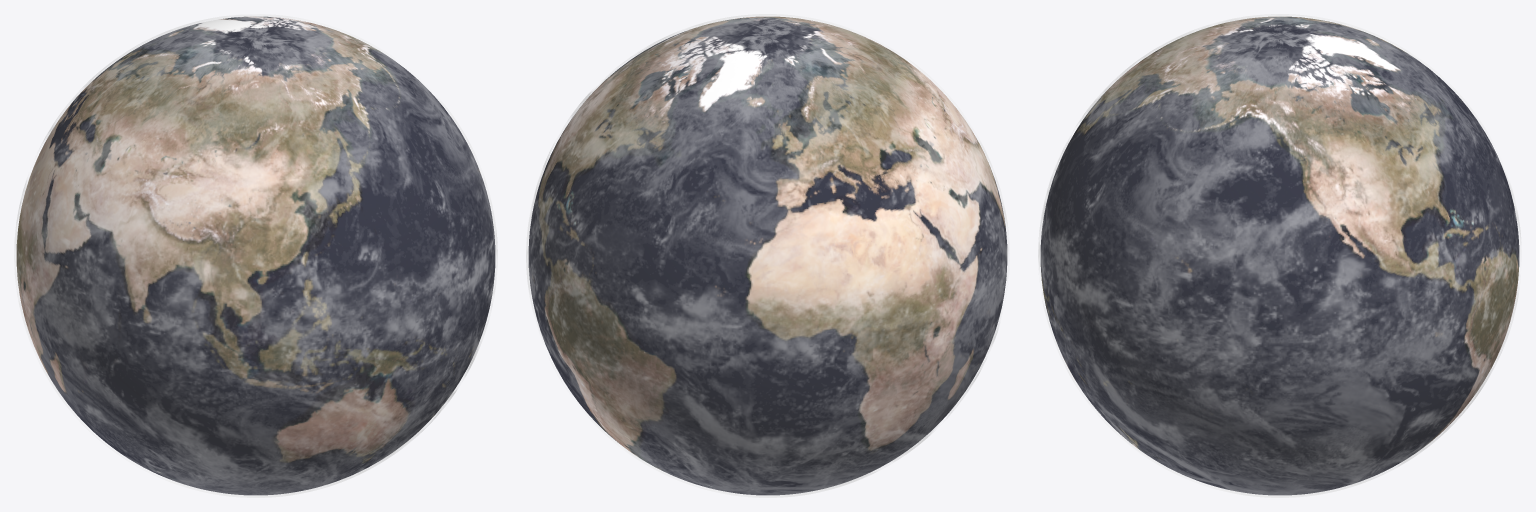
The model's file is planet_earth.glb.
3 views of the same model, side by side, from view 1: azimuth 30°, elevation 25°; view 2: azimuth 150°, elevation 25°; view 3: azimuth 270°, elevation 25° (orthographic).
Parts seen in each view (by area): view 1: Earth_Diffuse_6K, Earth_Diffuse_6K.001; view 2: Earth_Diffuse_6K, Earth_Diffuse_6K.001; view 3: Earth_Diffuse_6K, Earth_Diffuse_6K.001.
Boxes of the visible parts, x1,y1,x2,y2 form: Earth_Diffuse_6K: (16,16,495,495); Earth_Diffuse_6K.001: (14,14,497,497); Earth_Diffuse_6K: (528,16,1007,495); Earth_Diffuse_6K.001: (526,14,1009,497); Earth_Diffuse_6K: (1040,16,1519,495); Earth_Diffuse_6K.001: (1038,14,1521,497).
Size of the model in its own units: 275 by 275 by 275.
Materials: 2 (2 with a texture image).
